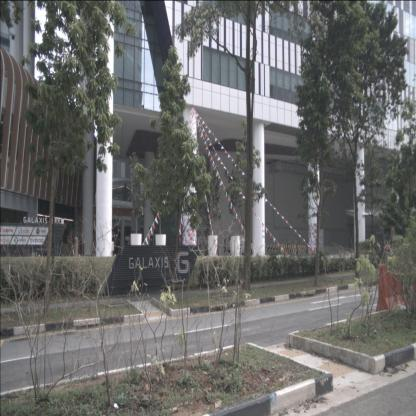barrier: (375, 260, 415, 314)
